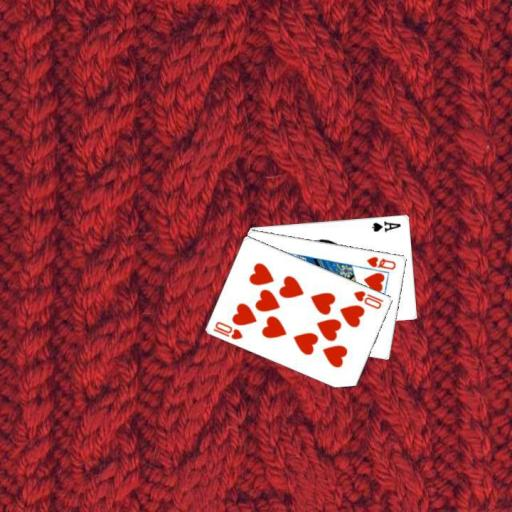10H: (351, 287, 385, 310), (211, 318, 245, 341)
AS: (369, 218, 403, 233)
QH: (364, 253, 398, 271)
